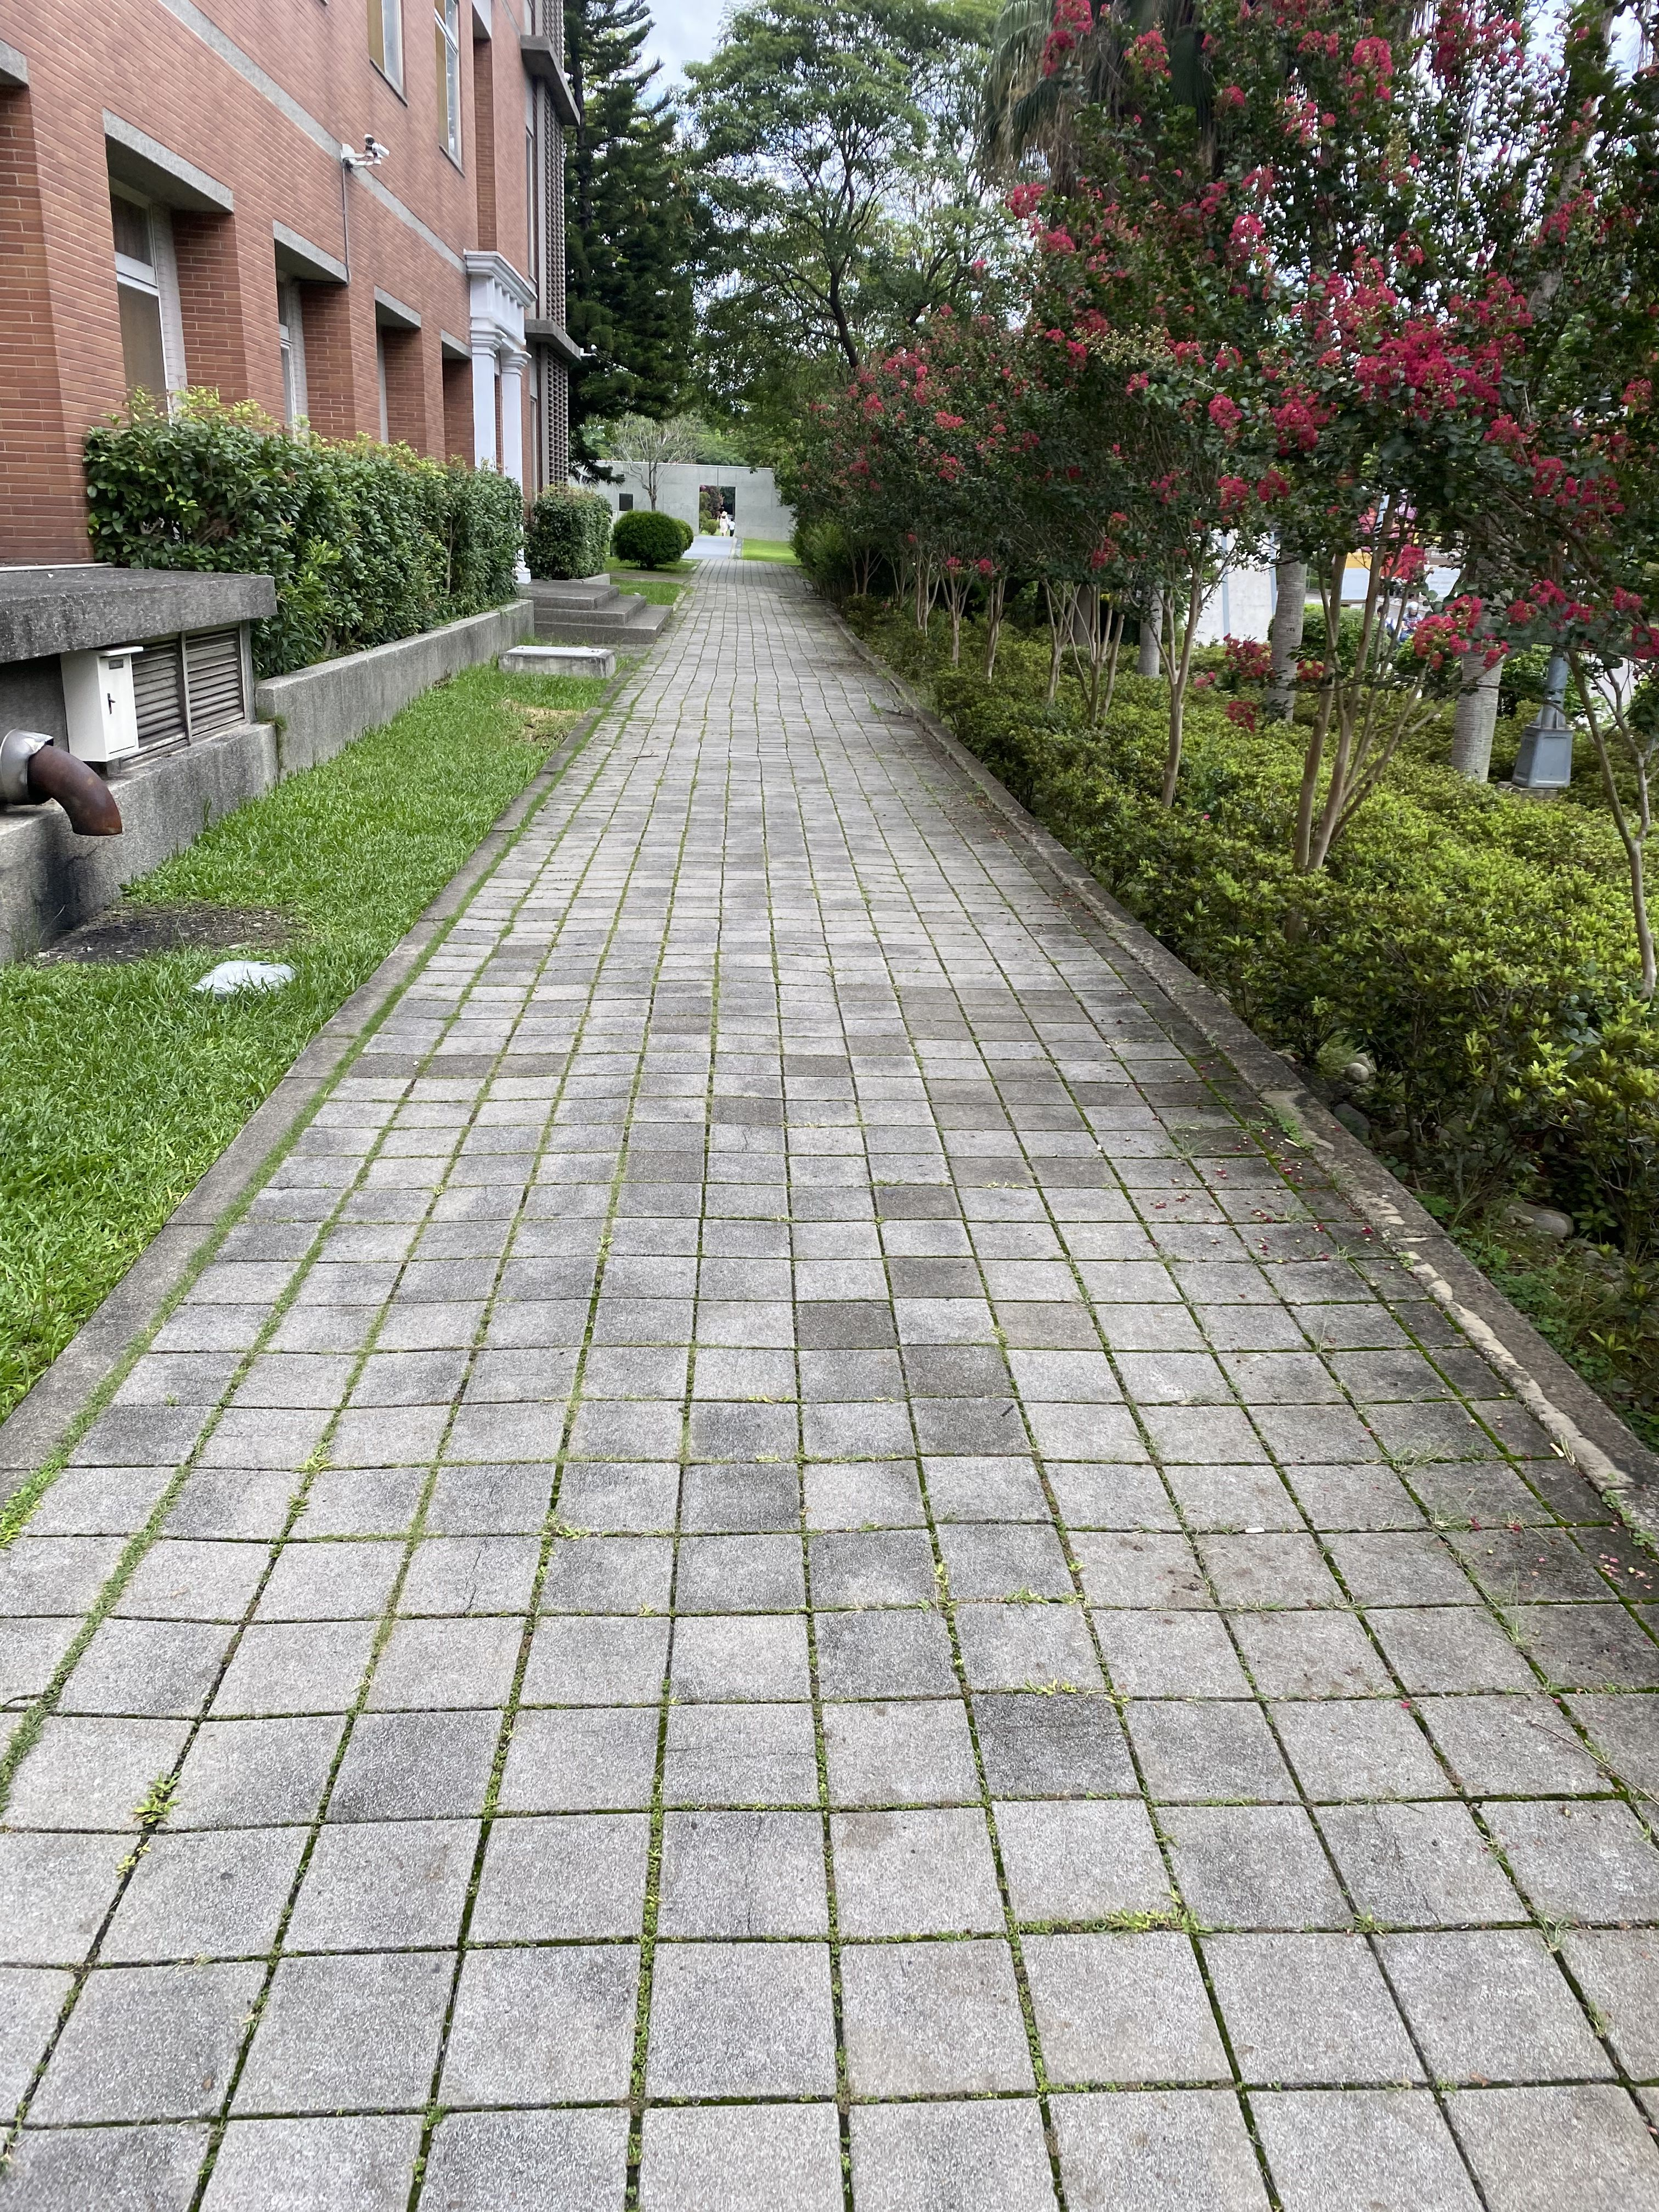0: (7, 770, 594, 2207)
sidewalk: (568, 538, 1659, 2212)
